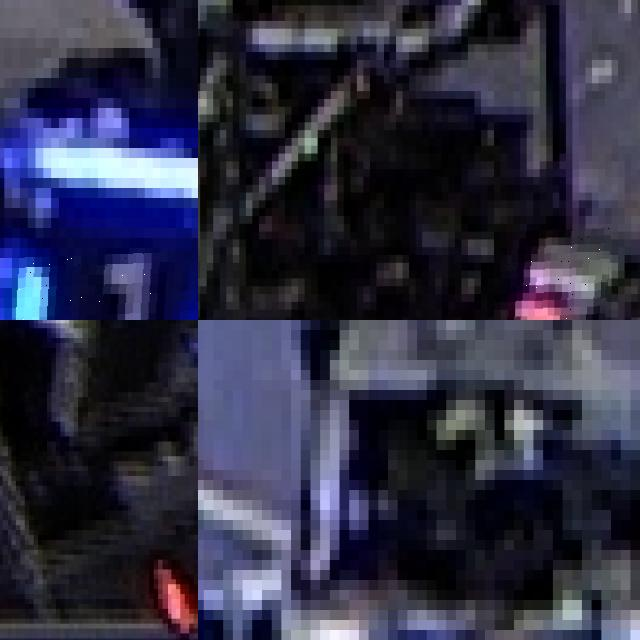B1: (12, 248, 198, 320)
R1: (507, 224, 611, 320), (151, 495, 198, 640)
